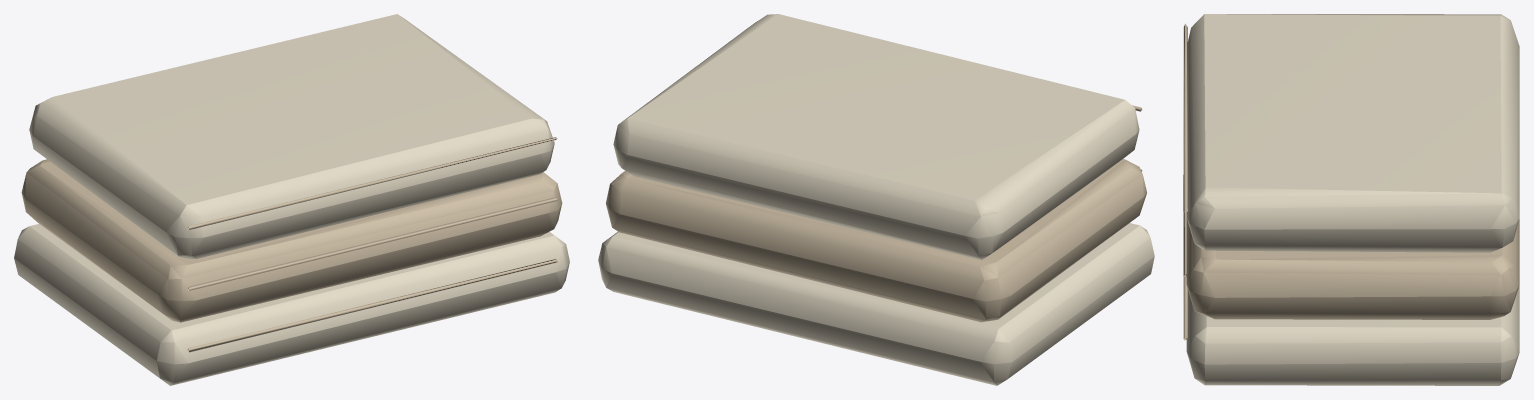
Rendered from bath-linen-light.glb.
The picture shows the model from 3 angles, left to right: view 1: azimuth 30°, elevation 25°; view 2: azimuth 150°, elevation 25°; view 3: azimuth 270°, elevation 25°; orthographic projection. The views are drawn at different scales.
Parts seen in each view (by area): view 1: Mood stoneware chalk, Mood linen oat; view 2: Mood stoneware chalk, Mood linen oat; view 3: Mood stoneware chalk, Mood linen oat.
Boxes of the visible parts, x1,y1,x2,y2 form: Mood stoneware chalk: [14, 14, 569, 385]; Mood linen oat: [21, 137, 562, 352]; Mood stoneware chalk: [598, 14, 1154, 385]; Mood linen oat: [606, 105, 1146, 322]; Mood stoneware chalk: [1186, 14, 1519, 385]; Mood linen oat: [1183, 23, 1519, 340].
Size of the model in its own units: 0.2693 by 0.112 by 0.1827.
